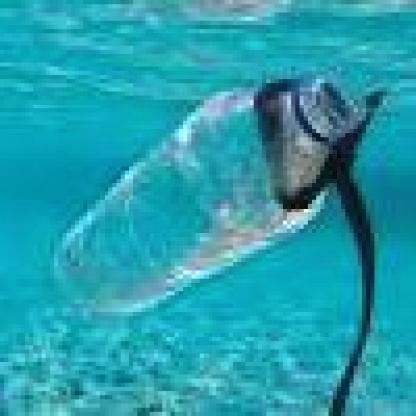pbottle: (29, 66, 358, 320)
